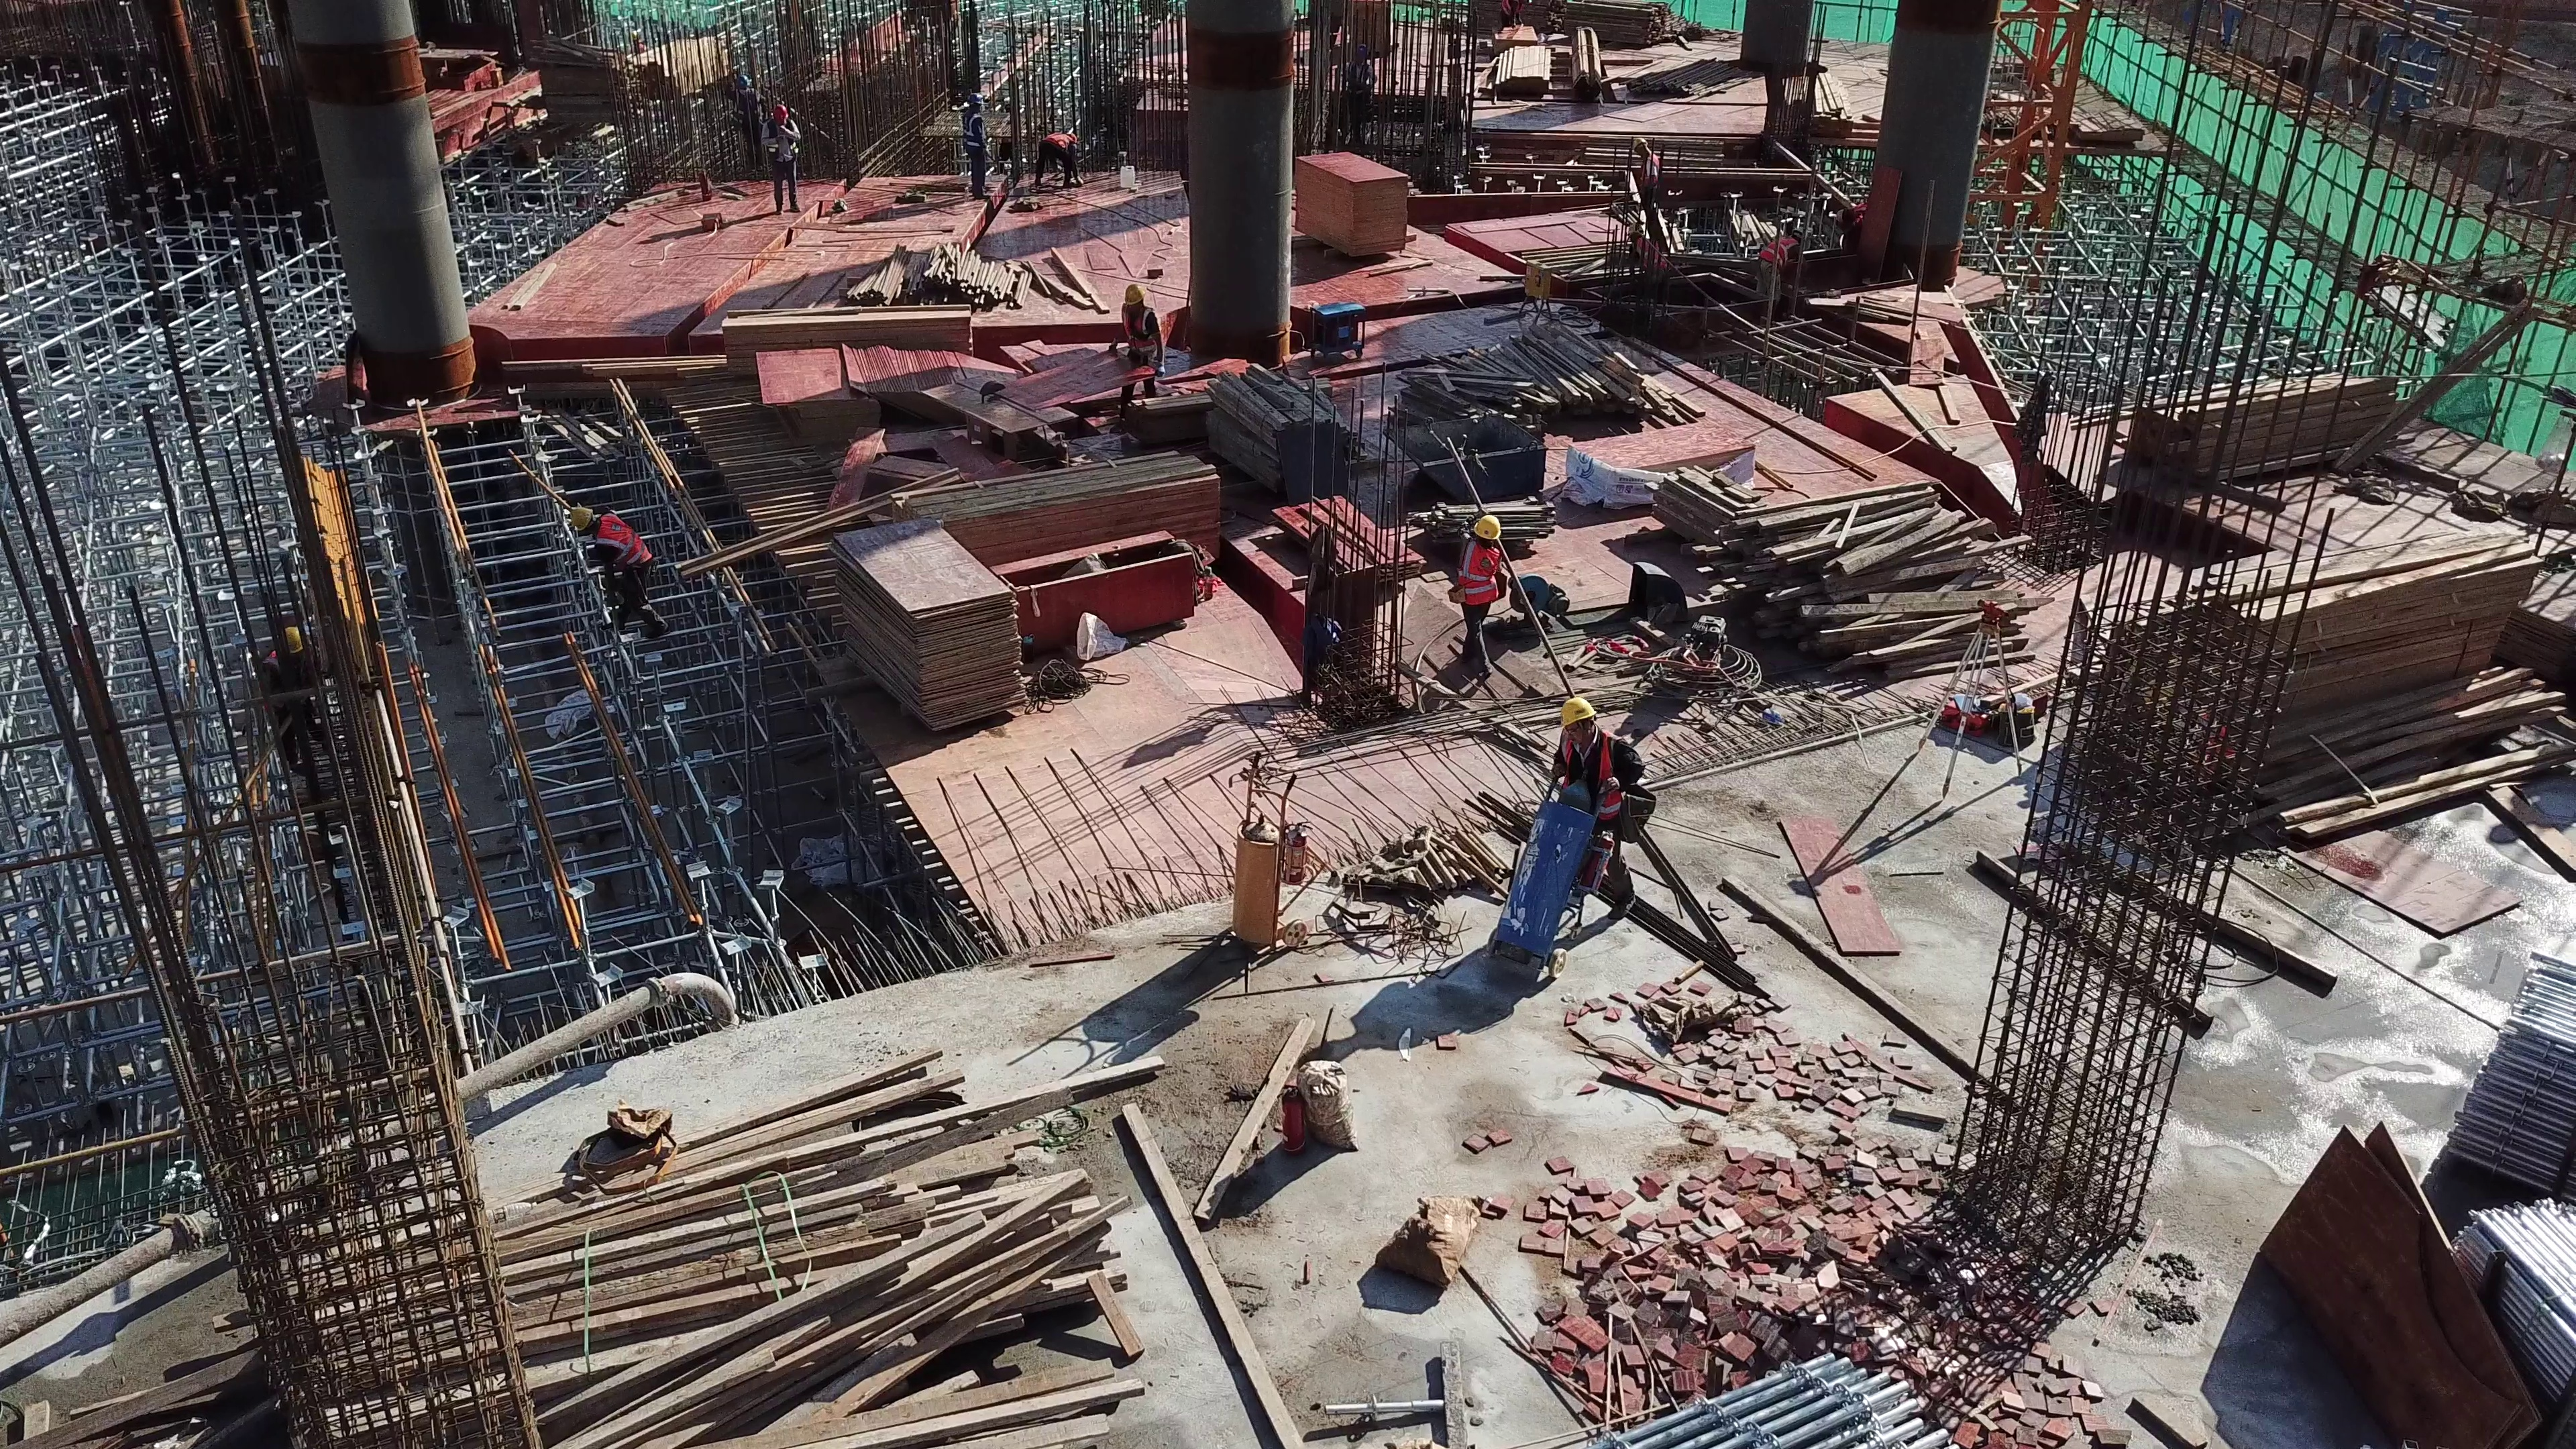board: (823, 524, 1020, 729), (767, 346, 983, 442), (1295, 145, 1411, 259), (1582, 420, 1725, 478)
cutter: (924, 376, 1074, 447), (1515, 571, 1564, 625)
ebox: (1522, 261, 1558, 324)
helmet: (1562, 698, 1596, 729), (1472, 513, 1507, 543), (279, 625, 307, 653), (569, 501, 591, 537), (768, 103, 790, 126), (1124, 282, 1141, 305), (737, 70, 751, 87), (969, 93, 981, 109), (1633, 135, 1644, 151)
hopper: (1391, 417, 1548, 499)
person: (1552, 693, 1653, 922), (569, 502, 668, 638), (254, 625, 341, 777), (1456, 513, 1510, 684), (1108, 283, 1171, 428), (762, 105, 806, 215), (724, 72, 767, 170), (959, 89, 994, 203), (1624, 218, 1668, 306), (1756, 228, 1804, 306), (1343, 42, 1376, 151), (1631, 137, 1664, 232), (1036, 127, 1084, 192), (1841, 199, 1865, 247), (1499, 1, 1534, 29)
scaffold: (1584, 1358, 1933, 1449), (2449, 962, 2576, 1197), (2464, 1197, 2576, 1385)
vest: (1563, 732, 1621, 819), (593, 512, 646, 572), (1458, 544, 1503, 604), (1120, 308, 1153, 353), (767, 121, 798, 161), (1758, 238, 1799, 260), (961, 110, 978, 151), (1047, 129, 1073, 150), (1641, 154, 1657, 186)
wood: (2191, 522, 2536, 707), (896, 452, 1226, 563), (2147, 368, 2392, 474), (719, 305, 977, 374), (1209, 367, 1340, 494), (640, 41, 717, 90), (1491, 48, 1549, 87)
